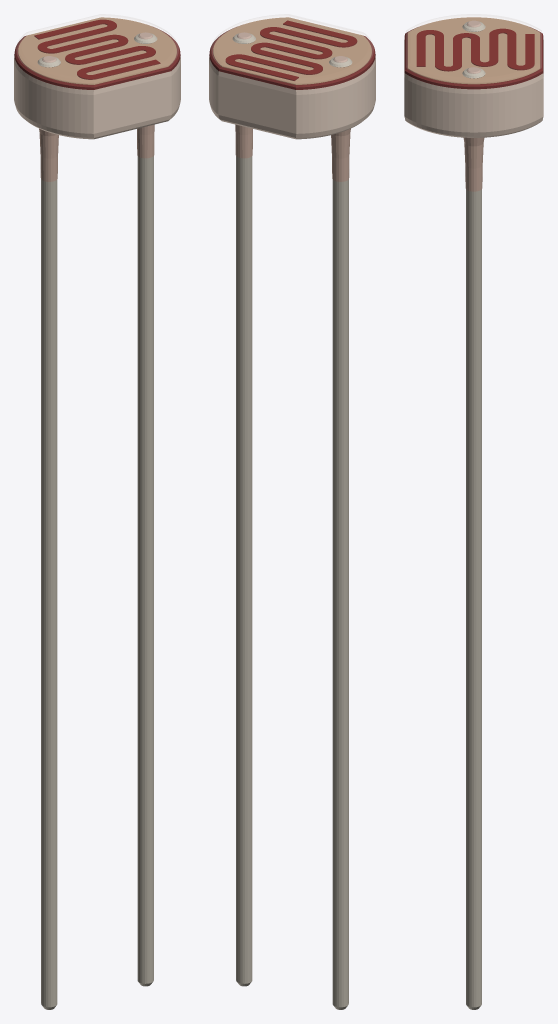
File: pdv-p8103.glb
3 views of the same model, side by side, from view 1: azimuth 30°, elevation 25°; view 2: azimuth 150°, elevation 25°; view 3: azimuth 270°, elevation 25° (orthographic).
Visible parts, largest first — view 1: PDV_P8103_LEAD_2, PDV_P8103_LEAD_1, PDV_P8103_CERAMIC, PDV_P8103_FACE_PLATE, PDV_P8103_EPOXY_FACE, PDV_P8103_CDS_TRACK, PDV_P8103_LEAD_EPOXY_1, PDV_P8103_LEAD_EPOXY_2; view 2: PDV_P8103_LEAD_2, PDV_P8103_LEAD_1, PDV_P8103_CERAMIC, PDV_P8103_FACE_PLATE, PDV_P8103_EPOXY_FACE, PDV_P8103_CDS_TRACK, PDV_P8103_LEAD_EPOXY_1, PDV_P8103_LEAD_EPOXY_2; view 3: PDV_P8103_LEAD_2, PDV_P8103_CERAMIC, PDV_P8103_FACE_PLATE, PDV_P8103_EPOXY_FACE, PDV_P8103_CDS_TRACK, PDV_P8103_LEAD_EPOXY_2.
Part boxes in pixels (<box>): PDV_P8103_LEAD_2: <box>137,156,153,986</box>; PDV_P8103_LEAD_1: <box>41,179,57,1009</box>; PDV_P8103_CERAMIC: <box>14,56,180,139</box>; PDV_P8103_FACE_PLATE: <box>14,17,180,89</box>; PDV_P8103_EPOXY_FACE: <box>16,14,178,83</box>; PDV_P8103_CDS_TRACK: <box>34,19,160,79</box>; PDV_P8103_LEAD_EPOXY_1: <box>39,128,58,181</box>; PDV_P8103_LEAD_EPOXY_2: <box>137,124,154,158</box>; PDV_P8103_LEAD_2: <box>236,156,252,986</box>; PDV_P8103_LEAD_1: <box>332,179,348,1009</box>; PDV_P8103_CERAMIC: <box>209,56,375,139</box>; PDV_P8103_FACE_PLATE: <box>209,17,375,89</box>; PDV_P8103_EPOXY_FACE: <box>211,14,373,83</box>; PDV_P8103_CDS_TRACK: <box>225,20,357,80</box>; PDV_P8103_LEAD_EPOXY_1: <box>331,128,350,181</box>; PDV_P8103_LEAD_EPOXY_2: <box>235,124,252,158</box>; PDV_P8103_LEAD_2: <box>466,189,481,1009</box>; PDV_P8103_CERAMIC: <box>404,40,543,137</box>; PDV_P8103_FACE_PLATE: <box>404,17,543,89</box>; PDV_P8103_EPOXY_FACE: <box>406,14,541,83</box>; PDV_P8103_CDS_TRACK: <box>416,28,534,71</box>; PDV_P8103_LEAD_EPOXY_2: <box>463,137,484,191</box>.
Size of the model in its own units: 0.51 by 3.2 by 0.43.
